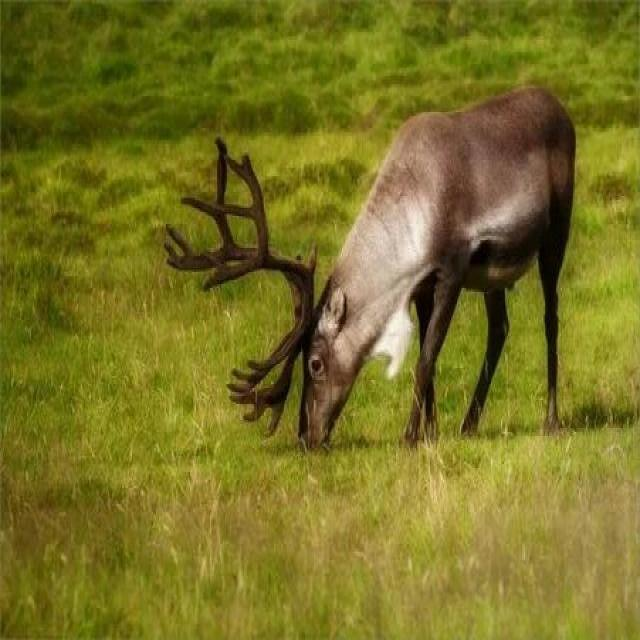deer: (262, 66, 582, 529)
